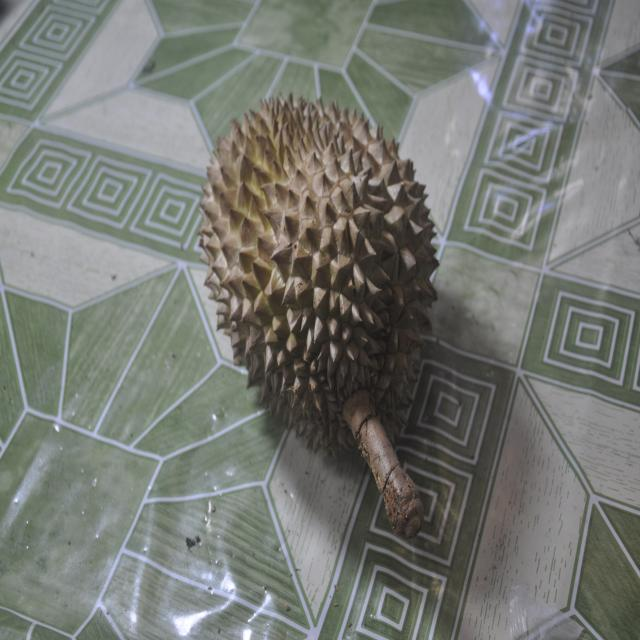mature: (200, 96, 437, 538)
